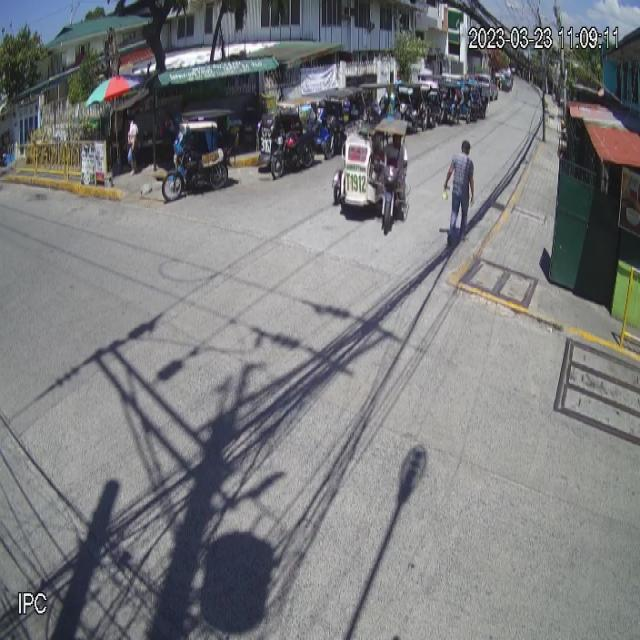Tricycle: (331, 117, 412, 232), (161, 109, 238, 203), (256, 98, 319, 181)
